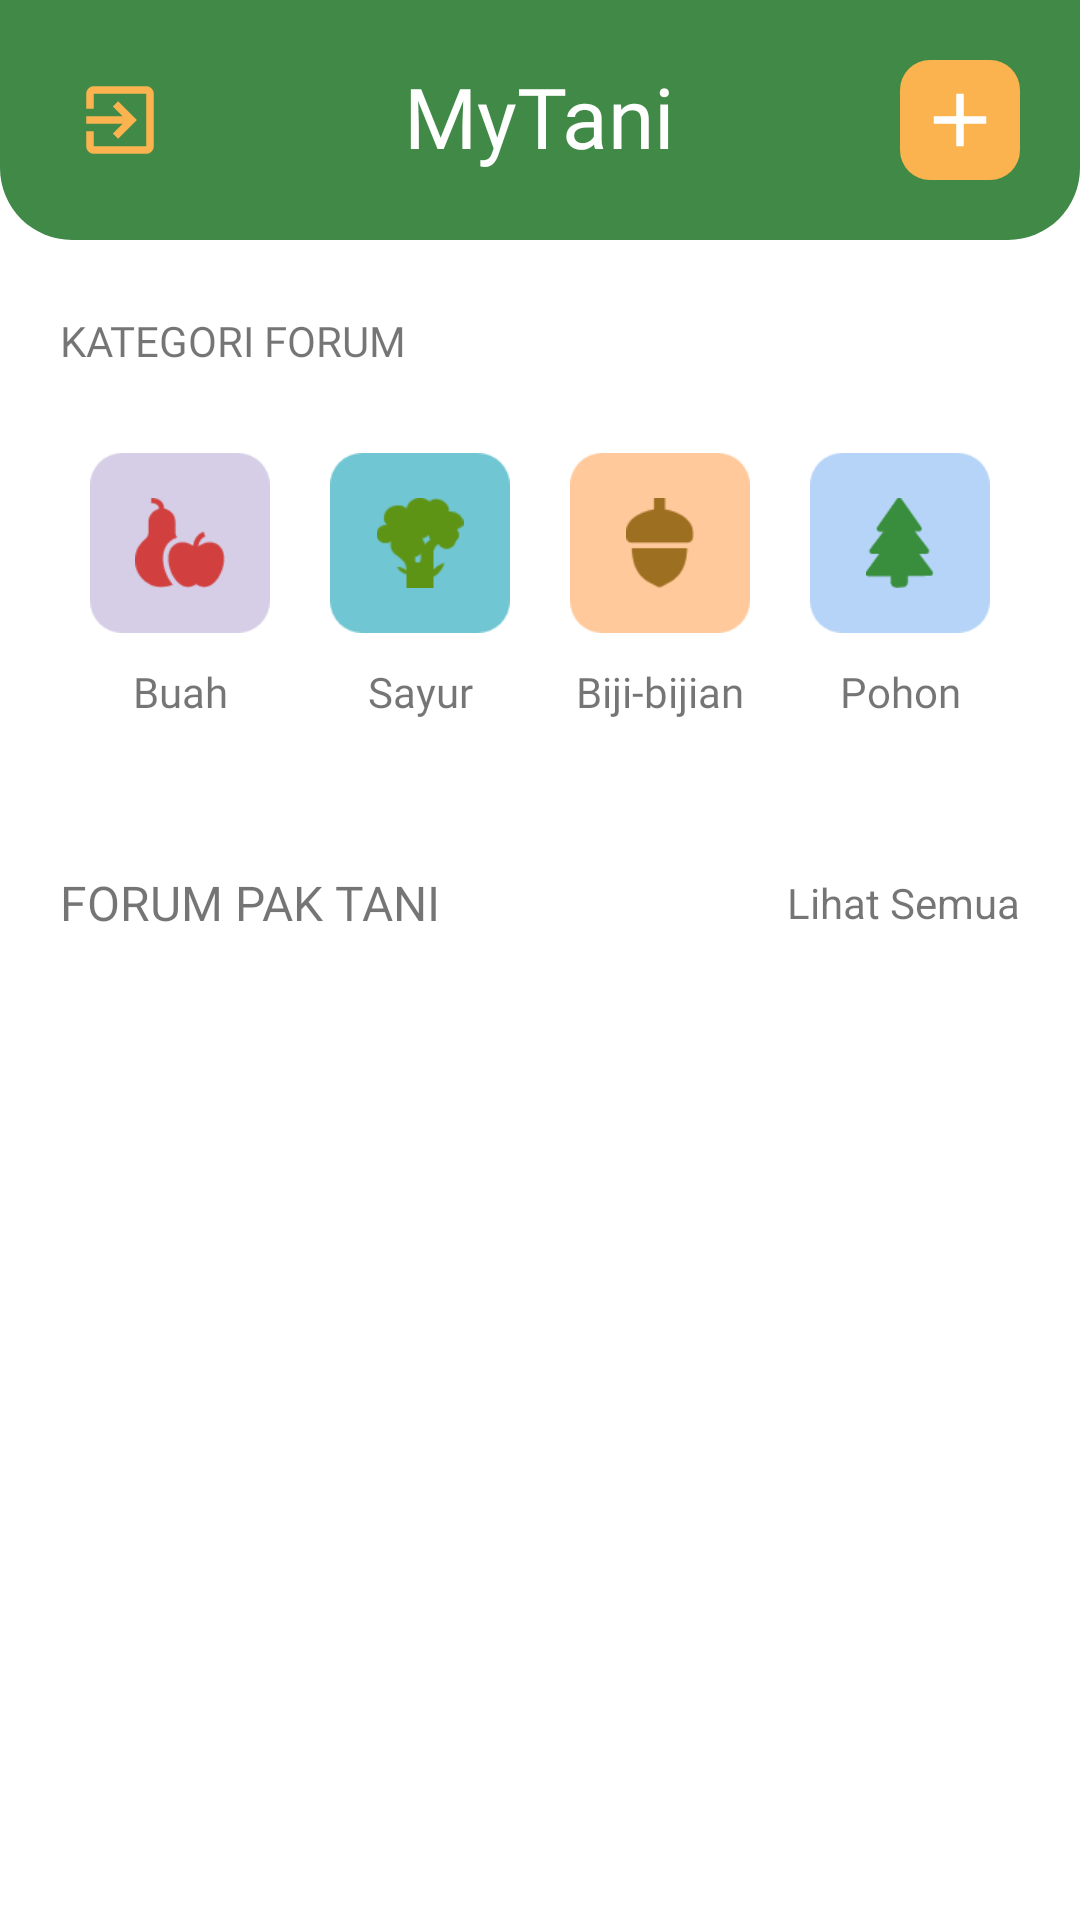

Named icons in this screenshot (1080 x 1920) and their bounding boxes, (x1, y1, x2, y2):
add: (900, 60, 1020, 180)
fruit: (135, 498, 225, 588)
nuts: (626, 498, 694, 588)
tree: (866, 498, 933, 588)
veggie: (377, 498, 464, 588)
